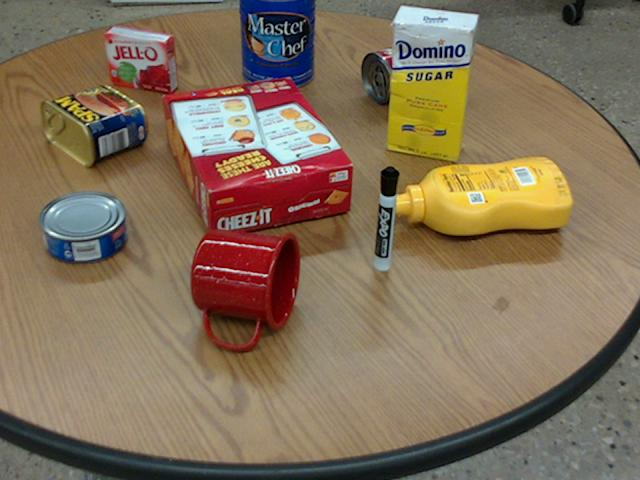cracker_box: (161, 77, 353, 237)
gelatin_box: (104, 25, 177, 91)
large_marker: (374, 165, 398, 270)
master_chef_can: (240, 0, 315, 88)
mug: (189, 230, 298, 348)
mustard_bottle: (389, 156, 571, 234)
potted_meat_can: (40, 84, 145, 164)
sugar_box: (388, 5, 478, 161)
tomato_soup_can: (360, 35, 449, 101)
tuna_fish_can: (38, 189, 125, 261)
